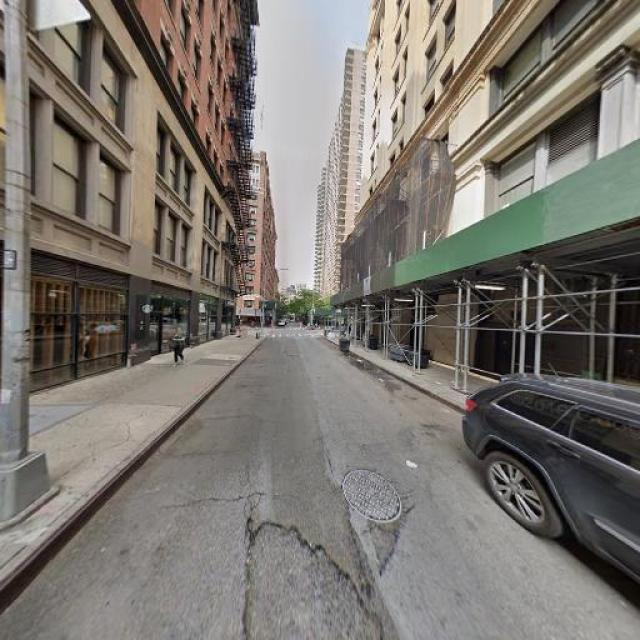Building: (365, 1, 640, 427), (1, 1, 240, 404)
